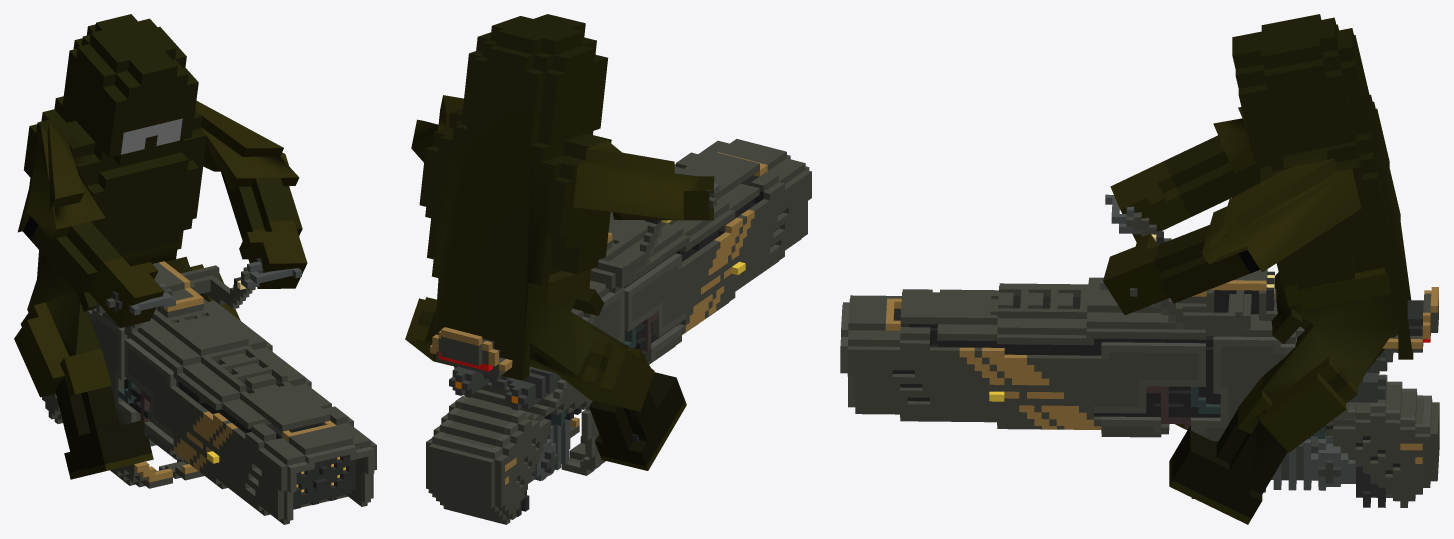
File: OnGunBike.obj
The picture shows the model from 3 angles, left to right: view 1: azimuth 30°, elevation 25°; view 2: azimuth 150°, elevation 25°; view 3: azimuth 270°, elevation 25°; orthographic projection. The views are drawn at different scales.
Size of the model in its own units: 4.37 by 6.94 by 8.03.
2 materials, 2 textured.
